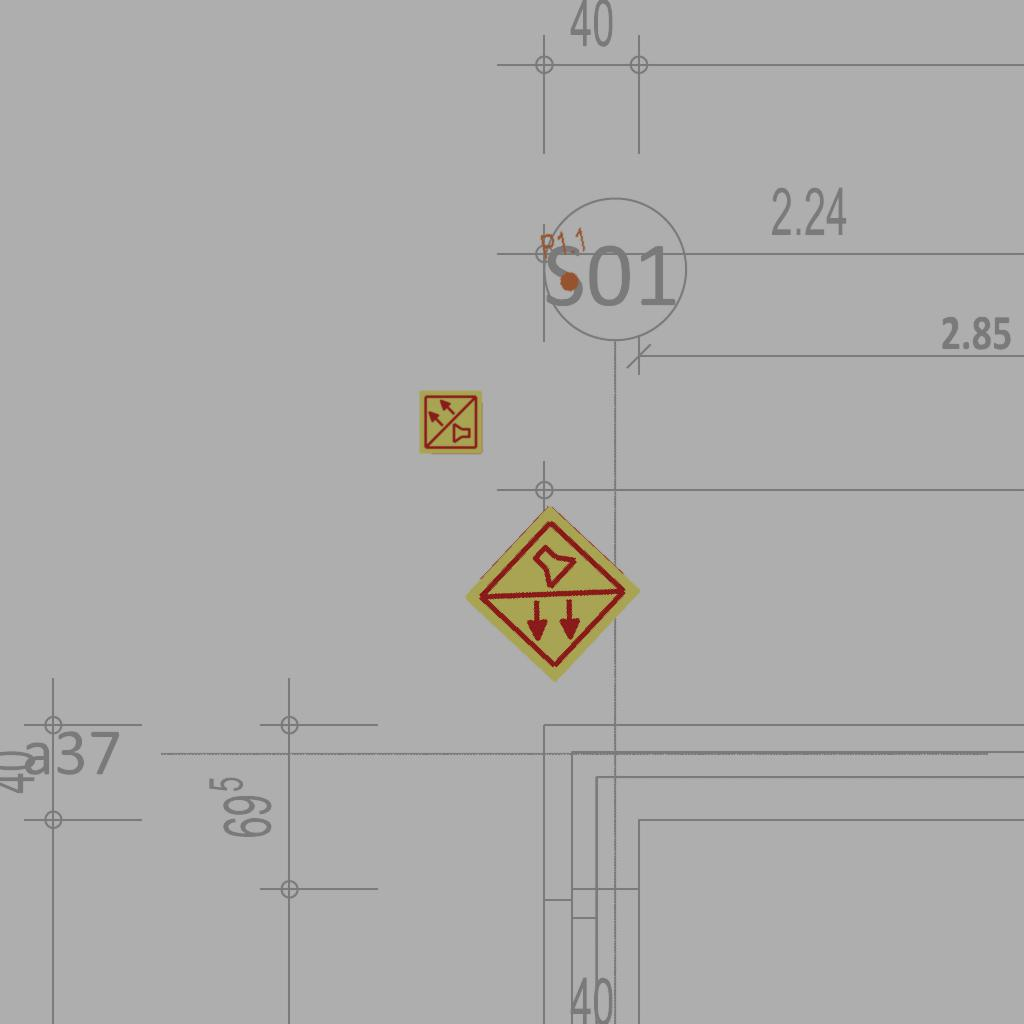Downlight_LED_Einbauleuchten_Flur: (538, 225, 596, 297)
OKW_Multisensormelder_(Kombination_optischer_Rauch-Kahlenmonoxid_Waerme-Melder): (458, 500, 646, 688), (418, 389, 484, 455)
